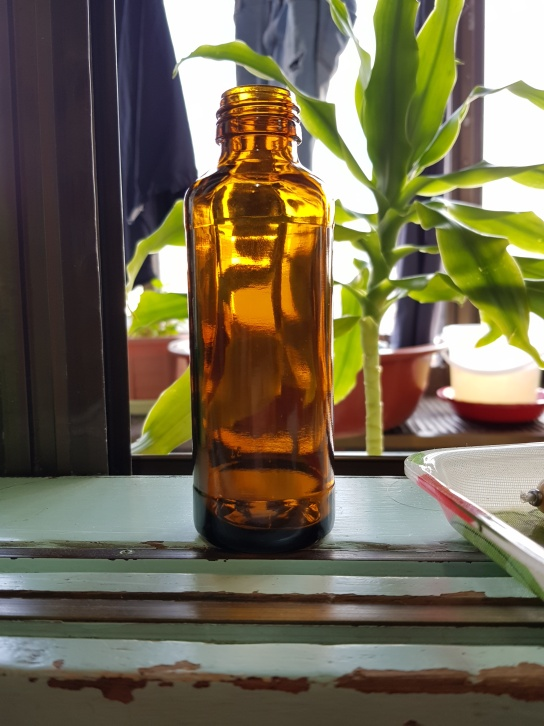Glass: (180, 82, 338, 559)
